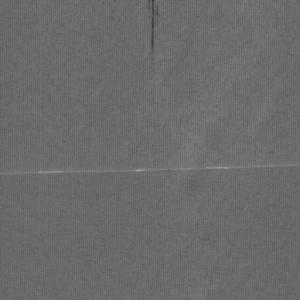Stain: (144, 1, 164, 106)
Wrinkle: (1, 24, 98, 137)
